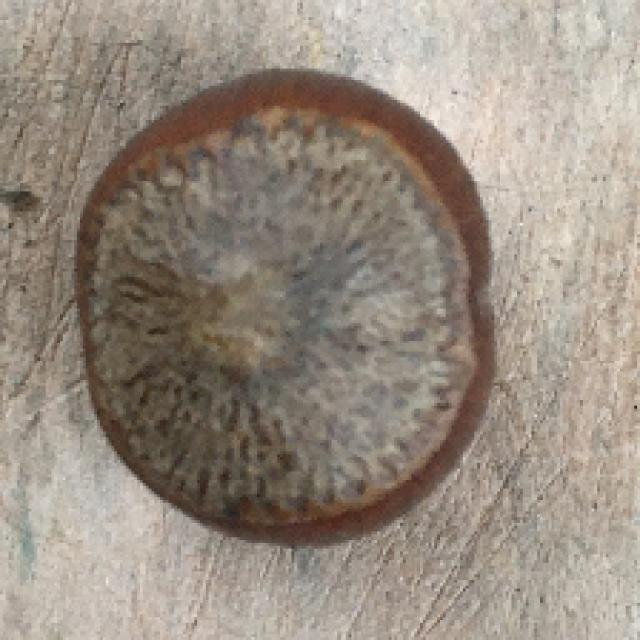qualityHazelnut: (66, 66, 503, 552)
